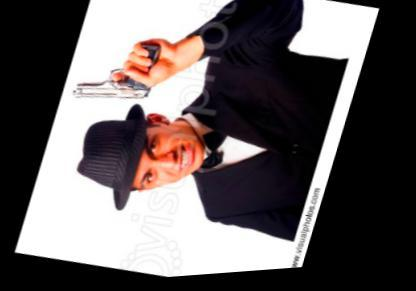pistol: (70, 30, 167, 114)
